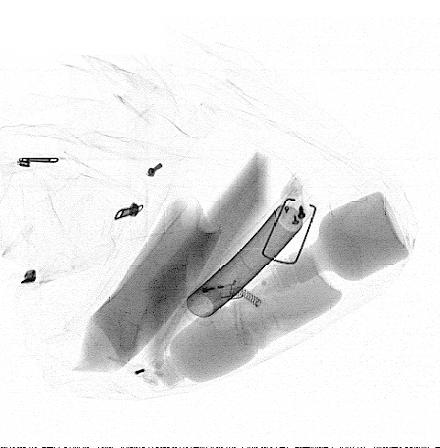Lighter: (174, 278, 244, 306)
